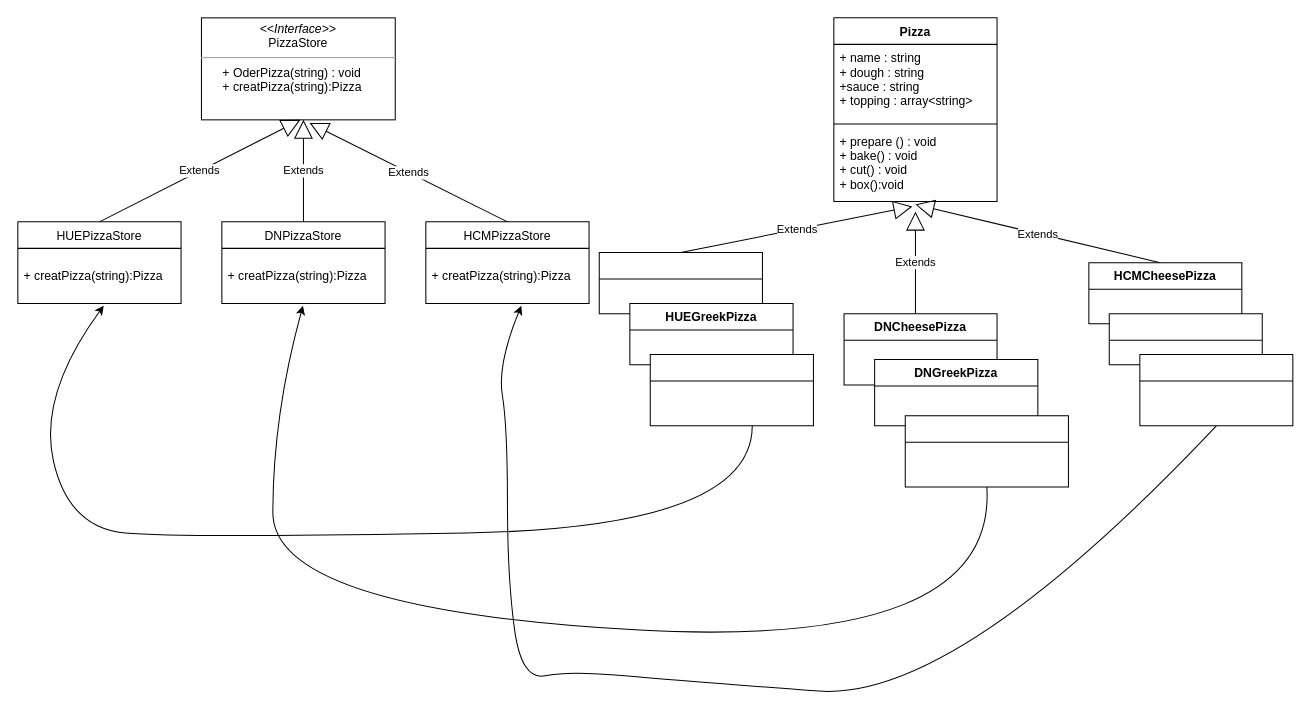
The diagram is 1311 pixels wide and 710 high, and some of its shapes have lost their labels. The centre of each missing label's shape, as x and y in pixels:
DNPepperOniPizza: point 986,451
HCMGreekPizza: point 1185,339
HCMPepperOniPizza: point 1216,389
HUECheesePizza: point 680,282
HUEPepperOniPizza: point 731,389
